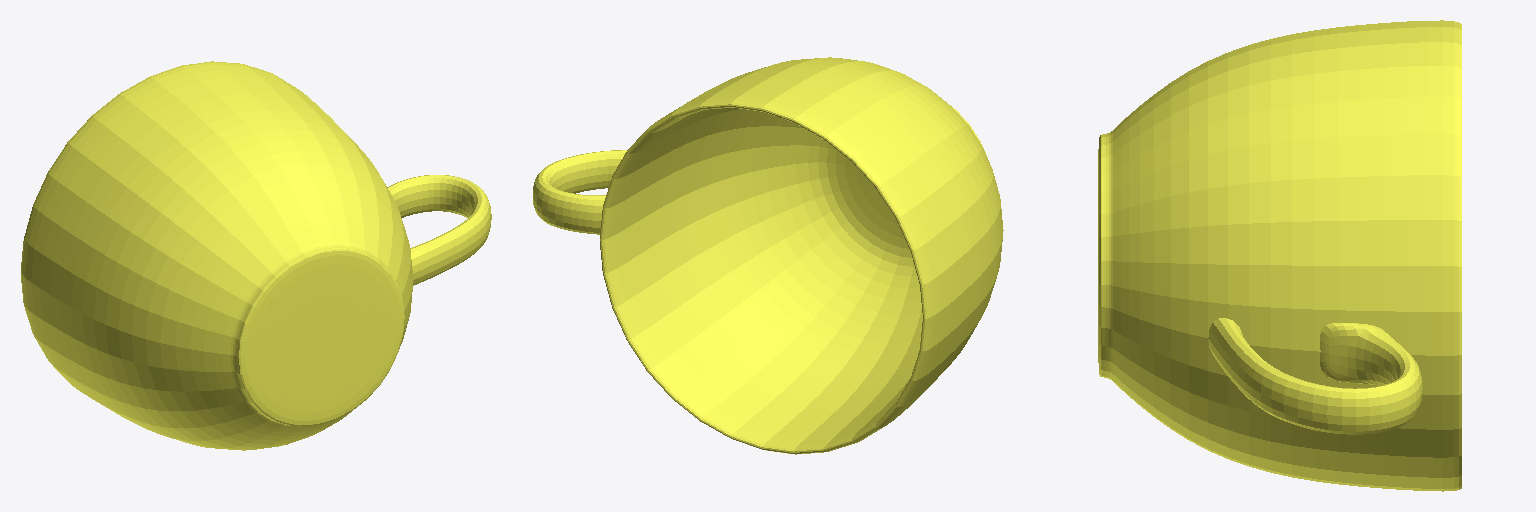
The robot description file, URDF, robot "cube.urdf":
<?xml version="1.0" ?>
<robot name="cube.urdf">
  <link name="baseLink">
    <contact>
      <lateral_friction value="1.0"/>
      <rolling_friction value="0.0"/>
      <contact_cfm value="0.0"/>
      <contact_erp value="1.0"/>
    </contact>
    <inertial>
      <origin rpy="0 0 0" xyz="0.0 0.02 0.0"/>
       <mass value=".1"/>
       <inertia ixx="1" ixy="0" ixz="0" iyy="1" iyz="0" izz="1"/>
    </inertial>

    <visual>
      <origin rpy="0 0 0" xyz="0 0 0"/>
      <geometry>
        <mesh filename="./material_normalized.obj" scale="1 1 1"/>
      </geometry>
      
        <material name="yellow">
            <color rgba="1 1 0.4 1"/>
        </material>
        
    </visual>
    
    <collision>
      <origin rpy="0 0 0" xyz="0 0 0"/>
      <geometry>
             <mesh filename="./material_normalized_vhacd.obj" scale="1 1 1"/>
      </geometry>
    </collision>
  </link>
  </robot>
  

--- What the picture shows (computed from the rendered views, not written in the file) ---
3 views of the same robot in one strip: view 1: azimuth 30°, elevation 25°; view 2: azimuth 150°, elevation 25°; view 3: azimuth 270°, elevation 25° (orthographic).
Model cube.urdf with 1 links and 0 joints (none), rooted at baseLink, posed all joints at 0.
Links seen in each view (by area): view 1: baseLink; view 2: baseLink; view 3: baseLink.
Boxes of the visible links, x1=… form: baseLink: x1=21, y1=61, x2=491, y2=450; baseLink: x1=533, y1=57, x2=1003, y2=454; baseLink: x1=1098, y1=20, x2=1461, y2=491.
Bounding box of the posed robot: 1.53 × 0.9065 × 1.17 m (x, y, z).
1 mesh visuals loaded from 1 distinct referenced files (1 OBJ).